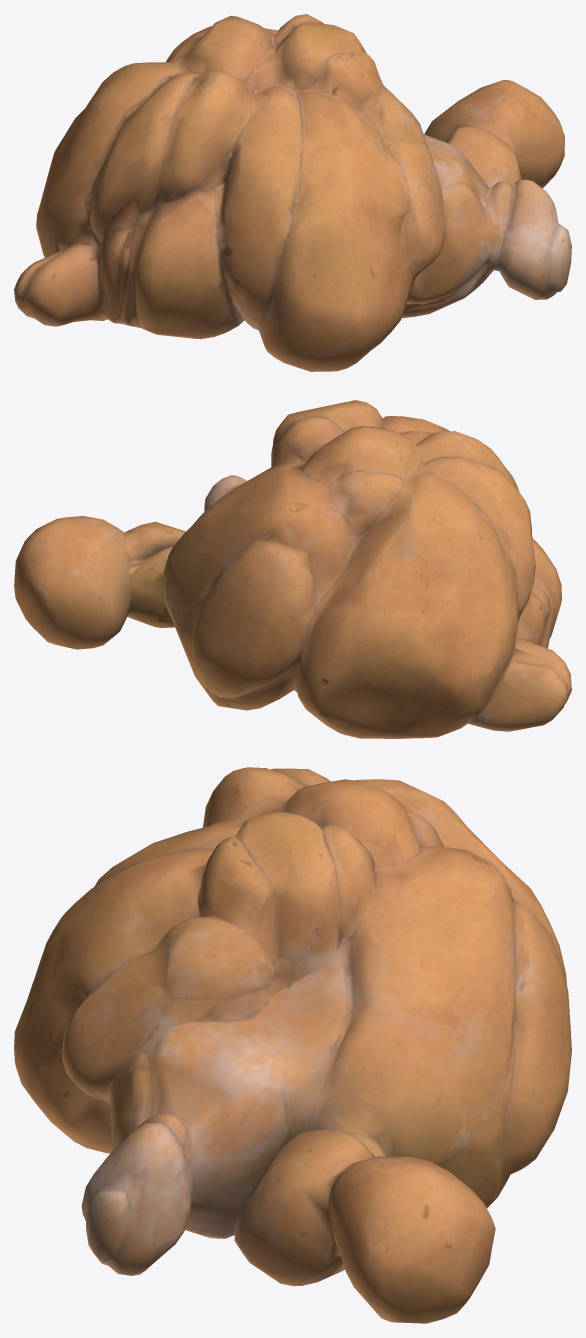
3 renders of one model, top to bottom at view 1: azimuth 30°, elevation 25°; view 2: azimuth 150°, elevation 25°; view 3: azimuth 270°, elevation 25°, orthographic. The views are drawn at different scales.
Visible parts, largest first — view 1: RockAssemble_0_LOD2; view 2: RockAssemble_0_LOD2; view 3: RockAssemble_0_LOD2.
Part boxes in pixels (box(x1,y1,x2,y2)): RockAssemble_0_LOD2: box(14, 14, 571, 371); RockAssemble_0_LOD2: box(14, 400, 571, 738); RockAssemble_0_LOD2: box(14, 767, 571, 1323).
Bounding box in the file's own units: 11.13 × 5.4 × 7.42.
1 material, 1 textured.
